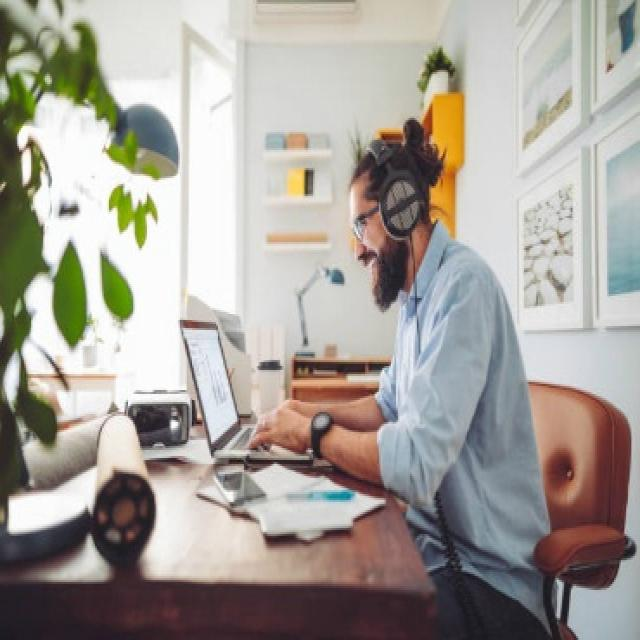adult: (303, 117, 567, 623)
